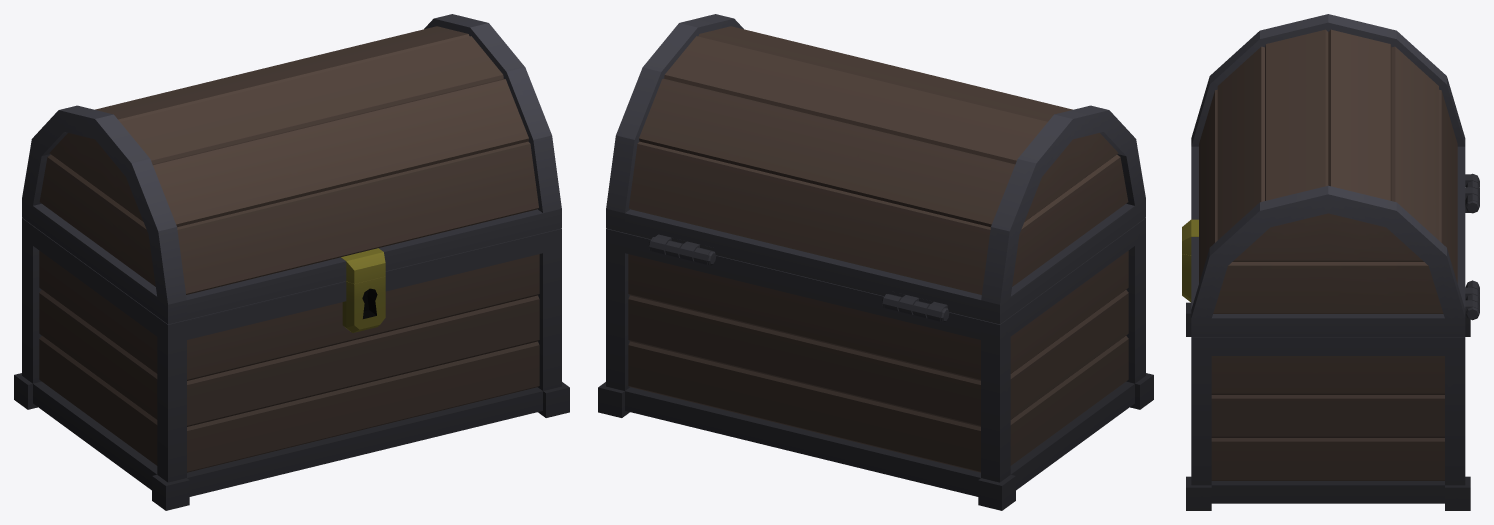
The model's file is Simple_Chest GLTF.glb.
3 renders of one model, left to right at view 1: azimuth 30°, elevation 25°; view 2: azimuth 150°, elevation 25°; view 3: azimuth 270°, elevation 25°, orthographic. The views are drawn at different scales.
Visible parts, largest first — view 1: Chest.Top, Chest.Bottom; view 2: Chest.Top, Chest.Bottom; view 3: Chest.Top, Chest.Bottom.
Boxes of the visible parts, x1,y1,x2,y2 form: Chest.Top: [22, 14, 561, 324]; Chest.Bottom: [14, 218, 569, 510]; Chest.Top: [606, 14, 1145, 324]; Chest.Bottom: [598, 218, 1153, 510]; Chest.Top: [1182, 14, 1479, 336]; Chest.Bottom: [1182, 173, 1479, 510].
Bounding box in the file's own units: 1.26 × 0.9998 × 0.8587.
1 material, 1 textured.
